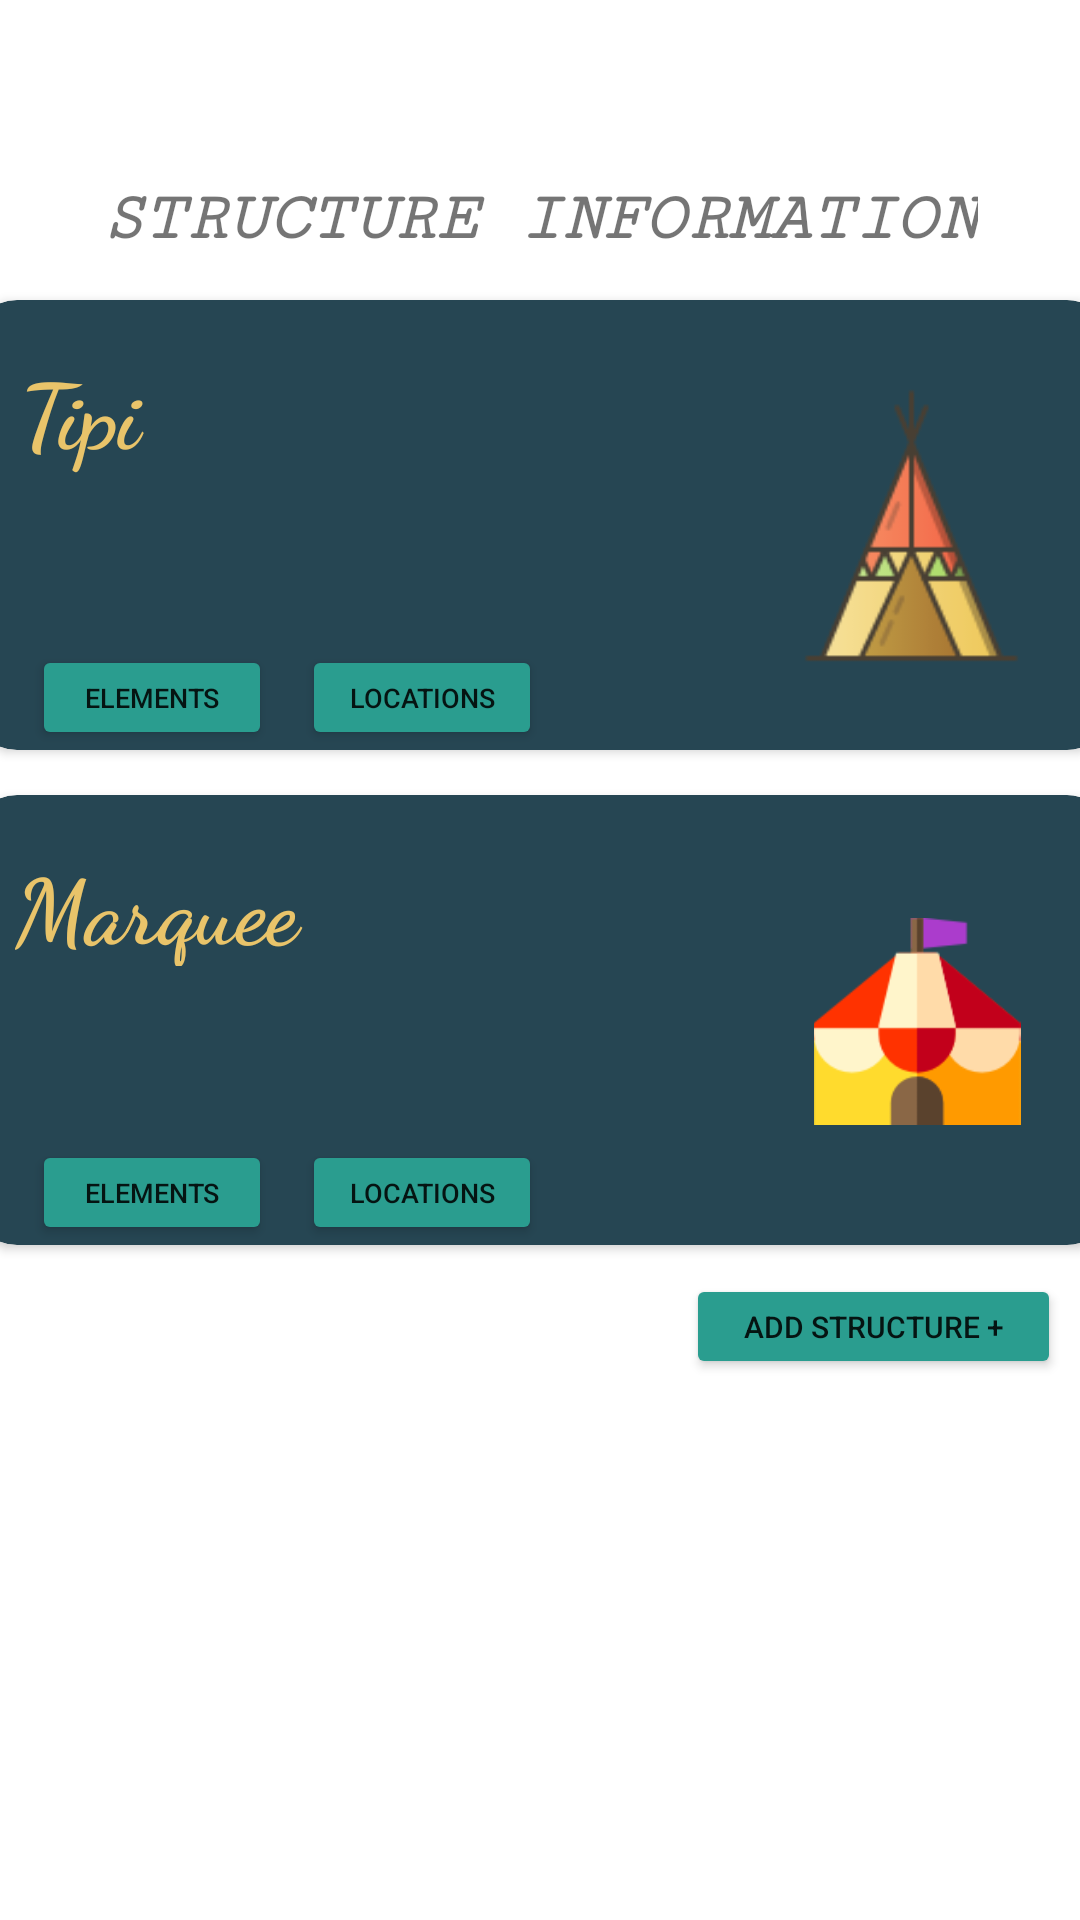

Locate icon controls on the screen. Image size 1080px×1920px, boxes as (x1, y1, x2, y2).
marquee: (814, 918, 1021, 1125)
tipi: (807, 392, 1016, 660)
